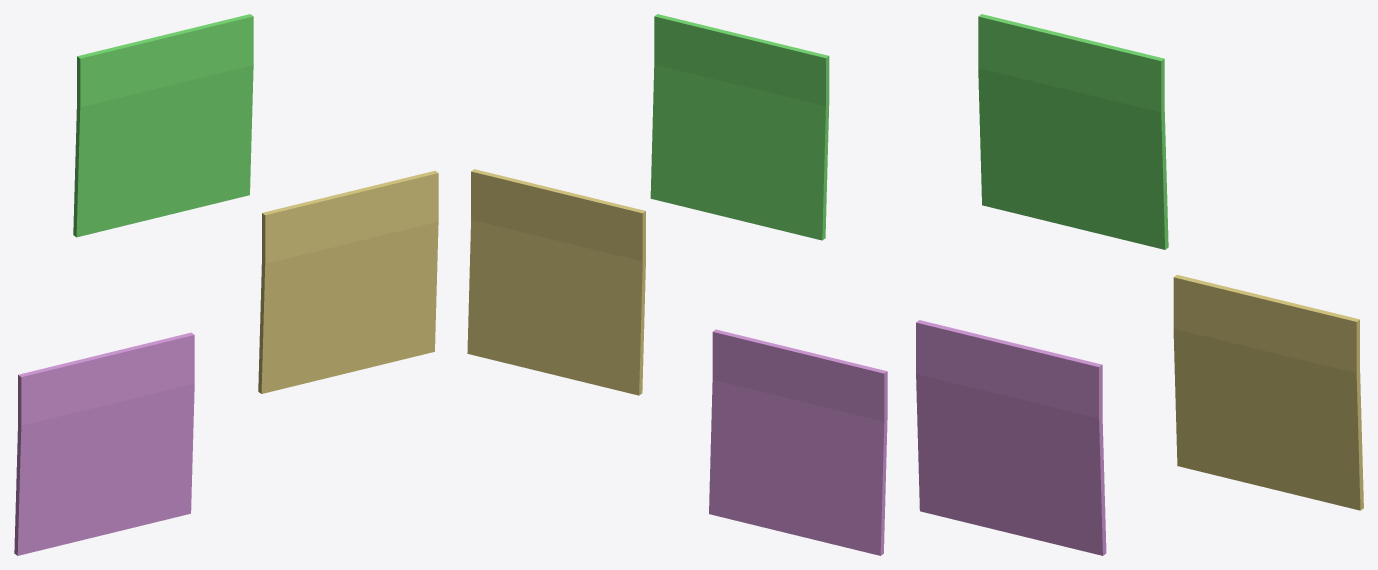
Rendered from Post it .fbx.
3 renders of one model, left to right at view 1: azimuth 30°, elevation 25°; view 2: azimuth 150°, elevation 25°; view 3: azimuth 330°, elevation 25°, orthographic. The views are drawn at different scales.
Visible parts, largest first — view 1: Cube.023, Cube.025, Cube.026; view 2: Cube.023, Cube.026, Cube.025; view 3: Cube.023, Cube.025, Cube.026.
Boxes of the visible parts, bbox=[...] form: Cube.023: bbox=[14, 332, 194, 555]; Cube.025: bbox=[258, 170, 438, 393]; Cube.026: bbox=[73, 14, 253, 237]; Cube.023: bbox=[709, 329, 887, 555]; Cube.026: bbox=[650, 14, 829, 240]; Cube.025: bbox=[467, 169, 645, 395]; Cube.023: bbox=[916, 320, 1106, 555]; Cube.025: bbox=[1173, 275, 1363, 510]; Cube.026: bbox=[978, 14, 1168, 249].
Size of the model in its own units: 461 by 513 by 13.35.
